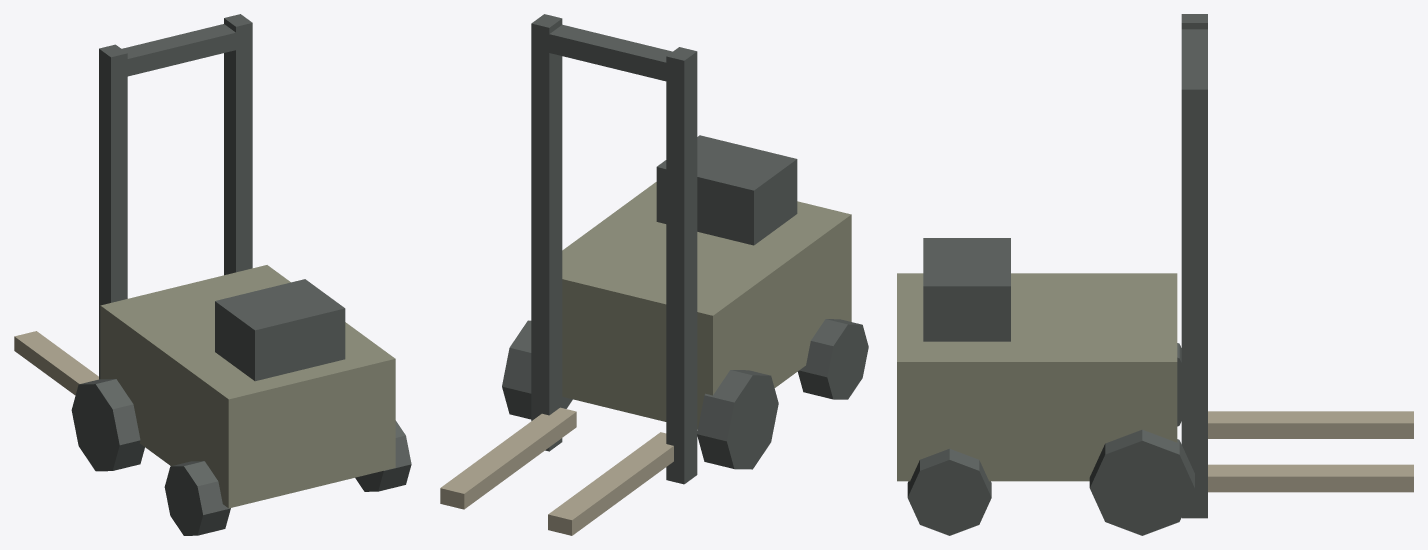
Rendered from forklift.glb.
The picture shows the model from 3 angles, left to right: view 1: azimuth 30°, elevation 25°; view 2: azimuth 150°, elevation 25°; view 3: azimuth 270°, elevation 25°; orthographic projection. The views are drawn at different scales.
Parts seen in each view (by area): view 1: forklift-0, forklift-1, forklift-2, forklift-3, forklift-7, forklift-9, forklift-4, forklift-5, forklift-10; view 2: forklift-0, forklift-2, forklift-3, forklift-1, forklift-7, forklift-6, forklift-5, forklift-9, forklift-4, forklift-8; view 3: forklift-0, forklift-3, forklift-1, forklift-8, forklift-6, forklift-5, forklift-10, forklift-4.
Part boxes in pixels (box(x1,y1,x2,y2)): forklift-0: box(100, 265, 395, 508); forklift-1: box(215, 279, 345, 381); forklift-2: box(99, 44, 127, 379); forklift-3: box(224, 14, 252, 275); forklift-7: box(71, 379, 144, 471); forklift-9: box(164, 461, 230, 535); forklift-4: box(112, 24, 250, 79); forklift-5: box(14, 331, 98, 395); forklift-10: box(355, 420, 411, 491); forklift-0: box(562, 182, 851, 429); forklift-2: box(666, 47, 697, 484); forklift-3: box(531, 14, 562, 451); forklift-1: box(656, 135, 797, 245); forklift-7: box(697, 370, 778, 469); forklift-6: box(440, 407, 576, 509); forklift-5: box(548, 432, 673, 535); forklift-9: box(797, 319, 868, 399); forklift-4: box(533, 24, 682, 84); forklift-8: box(502, 320, 572, 419); forklift-0: box(897, 273, 1177, 481); forklift-3: box(1181, 80, 1207, 518); forklift-1: box(923, 238, 1010, 341); forklift-8: box(1089, 429, 1194, 535); forklift-6: box(1208, 464, 1413, 492); forklift-5: box(1208, 411, 1413, 438); forklift-10: box(907, 448, 991, 535); forklift-4: box(1181, 29, 1207, 80).
Bounding box in the file's own units: 1.5 × 2.7 × 2.95.
